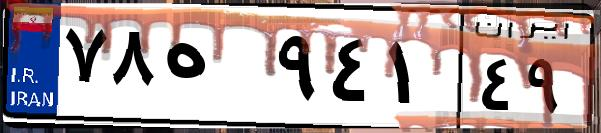1: (385, 28, 445, 110)
4: (330, 28, 385, 110), (475, 38, 525, 113)
7: (57, 26, 110, 100)
8: (110, 28, 158, 98)
9: (270, 28, 330, 110), (525, 38, 570, 115)
ه: (158, 20, 270, 120)
